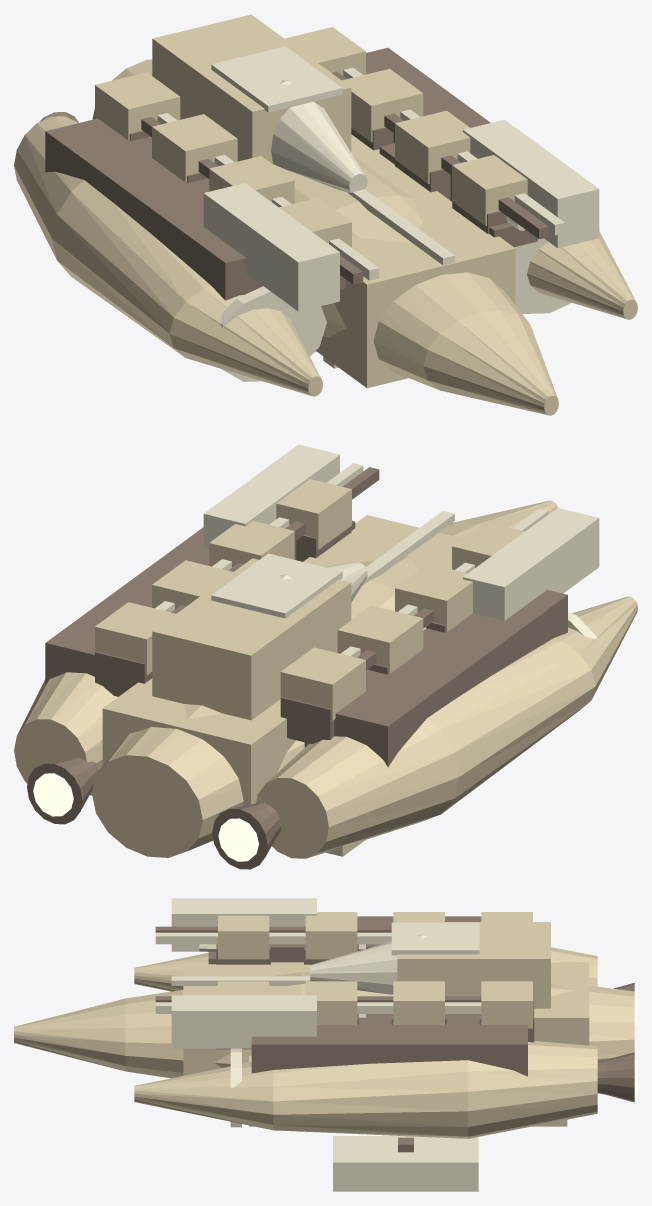
The picture shows the model from 3 angles, top to bottom: view 1: azimuth 30°, elevation 25°; view 2: azimuth 150°, elevation 25°; view 3: azimuth 270°, elevation 25°; orthographic projection. The views are drawn at different scales.
Bounding box in the file's own units: 13.85 × 7.07 × 22.74.
